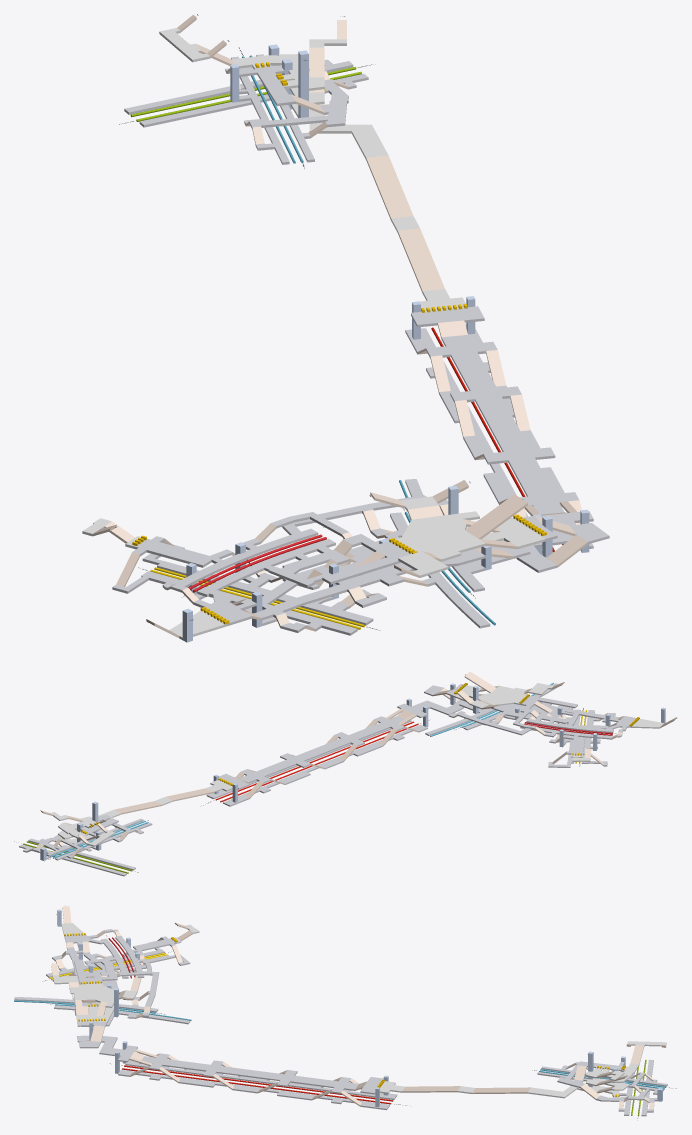
The model's file is sol.glb.
3 views of the same model, one above another, from view 1: azimuth 30°, elevation 25°; view 2: azimuth 150°, elevation 25°; view 3: azimuth 270°, elevation 25° (orthographic). The views are drawn at different scales.
Visible parts, largest first — view 1: path1423, path967, rect920-0, path972, rect1410, path998, path38131, path1351, path39317.001, rect39360, path40040, path40036 (+11 smaller); view 2: path1423, rect1410, path967, path972, path998, rect39360, path39317.001, path1351, path38131, rect920-0, path1400, path1425 (+2 smaller); view 3: rect1410, path1423, path967, path1400, path972, path1351, path38131, rect920-0, rect39360, path1425, path39317.001, path998 (+7 smaller).
Part boxes in pixels (box(x1,y1,x2,y2)): path1423: box(426, 335, 578, 505); path967: box(132, 495, 425, 587); rect920-0: box(112, 544, 373, 635); path972: box(193, 539, 349, 625); rect1410: box(405, 324, 593, 553); path998: box(254, 533, 485, 620); path38131: box(395, 511, 485, 561); path1351: box(390, 479, 530, 628); path39317.001: box(124, 59, 368, 127); rect39360: box(225, 54, 326, 164); path40040: box(397, 228, 444, 292); path40036: box(366, 155, 413, 219); path1423: box(240, 716, 404, 783); rect1410: box(206, 720, 427, 806); path967: box(458, 713, 611, 754); path972: box(526, 711, 635, 732); path998: box(491, 702, 618, 722); rect39360: box(39, 818, 152, 860); path39317.001: box(19, 838, 135, 876); path1351: box(425, 683, 558, 735); path38131: box(469, 685, 527, 705); rect920-0: box(548, 709, 607, 767); path1400: box(215, 721, 418, 802); path1425: box(397, 699, 464, 717); rect1410: box(118, 1060, 397, 1110); path1423: box(149, 1053, 358, 1093); path967: box(115, 935, 176, 1007); path1400: box(122, 1065, 393, 1104); path972: box(64, 935, 128, 978); path1351: box(14, 997, 190, 1026); path38131: box(69, 983, 119, 1007); rect920-0: box(46, 941, 190, 981); rect39360: box(537, 1065, 667, 1100); path1425: box(77, 1035, 137, 1062); path39317.001: box(612, 1059, 657, 1116); path998: box(65, 947, 119, 1006).
Bounding box in the file's own units: 330 × 50 × 468.
